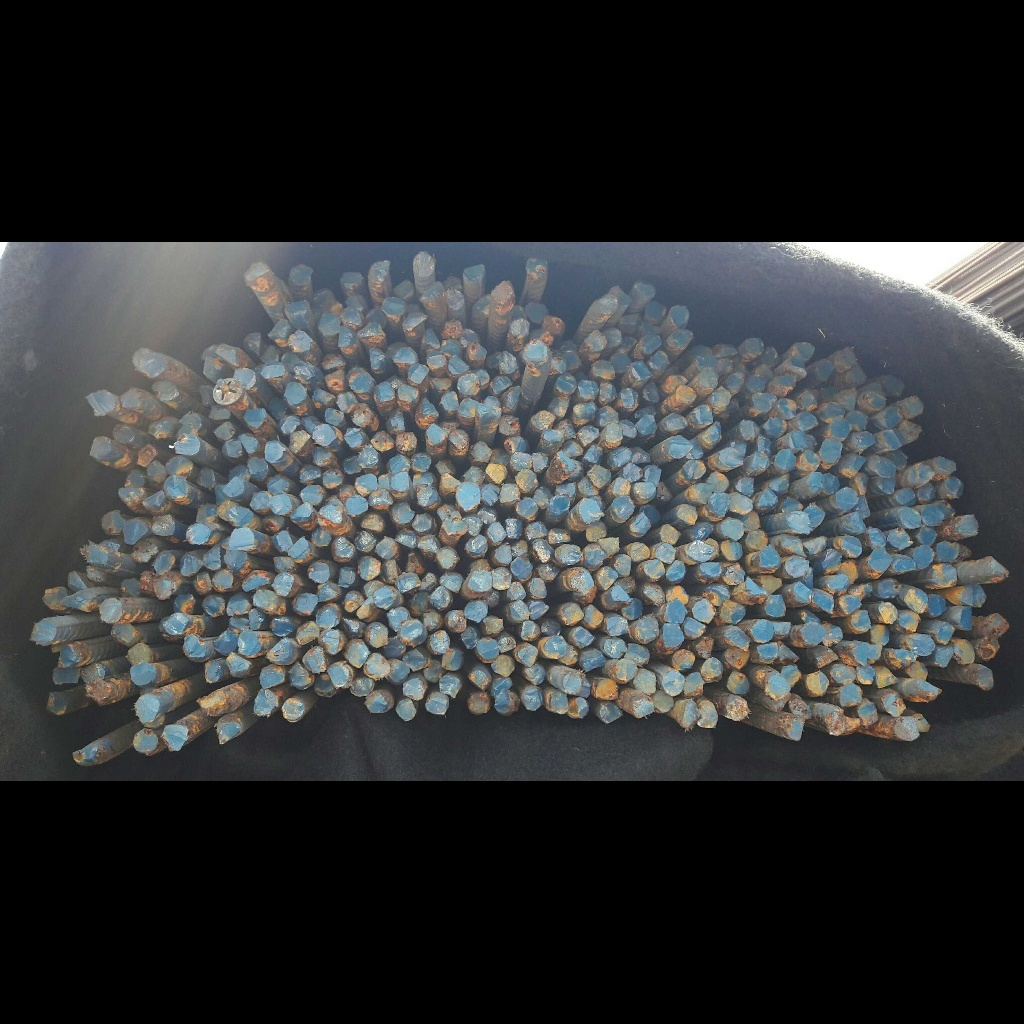dipstick: (132, 348, 166, 377), (86, 390, 116, 417), (244, 262, 274, 289), (213, 378, 244, 404), (980, 556, 1009, 583), (267, 638, 295, 664), (134, 694, 159, 723), (162, 725, 189, 751), (400, 620, 426, 646), (724, 626, 750, 652), (288, 430, 313, 457), (123, 519, 149, 544), (31, 620, 57, 645), (225, 653, 251, 678), (328, 663, 354, 688), (365, 654, 391, 679), (495, 690, 521, 715), (983, 613, 1008, 639), (132, 728, 159, 752), (153, 572, 177, 599), (254, 689, 278, 716), (303, 646, 327, 673), (635, 615, 659, 642), (883, 649, 915, 669), (677, 700, 699, 729), (912, 679, 941, 701), (217, 719, 242, 744), (316, 603, 341, 628), (565, 673, 590, 698), (894, 716, 919, 741), (259, 664, 285, 688), (346, 641, 370, 667), (632, 668, 656, 694), (801, 622, 827, 646), (166, 456, 193, 479), (43, 587, 70, 610), (367, 690, 394, 713), (160, 613, 188, 635), (98, 598, 122, 623), (87, 679, 112, 703), (183, 635, 207, 660), (322, 629, 346, 654), (456, 482, 480, 507), (641, 582, 665, 607), (720, 600, 745, 624), (819, 438, 843, 463), (766, 676, 791, 700), (881, 691, 905, 716), (214, 629, 237, 655), (404, 648, 430, 671), (567, 568, 593, 591), (67, 591, 95, 612), (722, 648, 750, 669), (237, 630, 261, 654), (357, 556, 381, 580), (101, 510, 124, 535), (229, 527, 254, 550), (253, 589, 278, 612), (666, 436, 691, 459), (663, 671, 686, 696), (932, 565, 957, 588), (974, 637, 999, 660), (110, 623, 136, 645), (130, 663, 156, 685), (199, 693, 225, 715), (366, 622, 388, 648), (580, 648, 606, 670), (704, 584, 730, 606), (555, 544, 582, 565), (782, 714, 803, 741), (242, 570, 270, 590), (202, 594, 226, 617), (295, 621, 318, 645), (349, 369, 373, 392), (372, 585, 395, 609), (426, 691, 449, 715), (579, 499, 602, 523), (723, 697, 747, 720), (692, 600, 716, 623), (836, 487, 859, 511), (787, 511, 810, 535), (806, 672, 829, 696), (870, 548, 893, 572), (897, 609, 920, 633), (417, 484, 439, 509), (463, 600, 488, 622), (491, 655, 516, 677), (587, 465, 612, 487), (701, 657, 723, 682), (708, 493, 730, 518), (961, 585, 986, 607), (90, 437, 113, 460), (164, 476, 187, 499), (440, 571, 463, 594), (515, 497, 538, 520), (515, 469, 538, 492), (495, 352, 518, 375), (612, 496, 635, 519), (727, 672, 750, 695), (133, 540, 157, 562), (57, 644, 81, 666), (293, 593, 317, 615), (388, 607, 410, 631), (562, 602, 584, 626), (583, 543, 605, 567), (554, 452, 576, 476), (671, 649, 695, 671), (664, 599, 686, 623), (743, 579, 767, 601), (843, 454, 865, 478), (871, 456, 895, 478), (906, 589, 928, 613), (175, 434, 200, 455), (319, 505, 344, 526), (391, 502, 416, 523), (153, 381, 179, 401), (830, 665, 856, 685), (953, 605, 973, 631), (698, 701, 717, 728), (180, 554, 202, 577), (289, 330, 311, 353), (214, 343, 236, 366), (233, 367, 256, 389), (247, 457, 269, 480), (282, 699, 305, 721), (284, 382, 307, 404), (343, 590, 365, 613), (402, 677, 424, 700), (437, 546, 459, 569), (835, 348, 857, 371), (751, 620, 774, 642), (909, 462, 932, 484), (127, 643, 151, 664), (227, 594, 251, 615), (272, 573, 293, 597), (313, 425, 337, 446), (414, 251, 435, 275), (413, 513, 437, 534), (468, 571, 492, 592), (547, 690, 568, 714), (595, 679, 619, 700), (763, 417, 787, 438), (785, 556, 809, 577), (821, 549, 842, 573), (874, 603, 898, 624), (888, 528, 912, 549), (935, 541, 959, 562), (910, 634, 934, 655), (186, 524, 211, 544), (523, 686, 543, 711), (683, 672, 703, 697), (687, 541, 712, 561), (812, 648, 837, 668), (955, 639, 975, 664), (359, 323, 385, 342), (86, 544, 108, 566), (289, 537, 311, 559), (333, 537, 355, 559), (354, 530, 376, 552), (429, 587, 451, 609), (524, 663, 546, 685), (544, 636, 566, 658), (492, 281, 514, 303), (526, 302, 548, 324), (573, 403, 595, 425), (615, 659, 637, 681), (722, 518, 744, 540), (840, 684, 862, 706), (901, 396, 923, 418), (941, 477, 963, 499), (270, 615, 293, 636), (324, 371, 347, 392), (370, 261, 391, 284), (457, 374, 480, 395), (352, 403, 373, 426), (371, 430, 394, 451), (439, 675, 462, 696), (476, 638, 499, 659), (511, 557, 532, 580), (604, 637, 627, 658), (524, 340, 547, 361), (596, 405, 619, 426), (629, 512, 650, 535), (622, 597, 643, 620), (626, 644, 649, 665), (707, 470, 728, 493), (780, 535, 803, 556), (827, 574, 850, 595), (804, 505, 825, 528), (866, 526, 887, 549), (922, 505, 945, 526), (300, 485, 324, 505), (719, 447, 743, 467), (752, 392, 776, 412), (876, 579, 900, 599), (461, 625, 480, 650), (532, 539, 551, 564), (530, 410, 555, 429), (476, 403, 502, 421), (47, 693, 68, 715), (174, 593, 195, 615), (308, 562, 330, 583), (355, 474, 377, 495), (376, 536, 397, 558), (441, 649, 463, 670), (567, 697, 588, 719), (644, 559, 666, 580), (633, 695, 654, 717), (722, 563, 744, 584), (711, 387, 732, 409), (765, 595, 786, 617), (840, 535, 862, 556), (839, 594, 861, 615), (779, 643, 800, 665), (899, 507, 921, 528), (854, 431, 876, 452), (913, 546, 934, 568), (926, 595, 947, 617), (933, 622, 954, 644), (152, 515, 175, 535), (153, 553, 176, 573), (81, 664, 104, 684), (212, 569, 232, 592), (224, 550, 247, 570), (359, 445, 379, 468), (418, 399, 438, 422), (369, 489, 392, 509), (398, 572, 421, 592), (396, 698, 416, 721), (492, 567, 512, 590), (599, 703, 622, 723), (542, 315, 565, 335), (633, 481, 656, 501), (663, 623, 683, 646), (690, 483, 713, 503), (933, 456, 956, 476), (142, 490, 166, 509), (431, 630, 450, 654), (591, 361, 615, 380), (826, 712, 845, 736), (975, 667, 994, 691), (361, 514, 386, 532), (319, 314, 340, 335), (337, 392, 358, 413), (468, 693, 489, 714), (499, 415, 520, 436), (458, 397, 479, 418), (585, 330, 606, 351), (602, 425, 623, 446), (677, 504, 698, 525), (775, 449, 796, 470), (757, 490, 778, 511), (907, 660, 928, 681), (204, 661, 224, 683), (244, 408, 266, 428), (218, 500, 238, 522), (270, 494, 292, 514), (373, 382, 395, 402), (468, 670, 490, 690), (418, 535, 440, 555), (469, 442, 491, 462), (721, 540, 743, 560), (792, 583, 814, 603), (814, 593, 834, 615), (845, 411, 867, 431), (957, 515, 979, 535), (290, 264, 313, 283), (230, 507, 253, 526), (274, 531, 293, 554), (312, 388, 335, 407), (382, 297, 405, 316), (345, 496, 368, 515), (447, 609, 466, 632), (598, 566, 617, 589), (503, 436, 526, 455), (594, 294, 617, 313), (576, 381, 599, 400), (670, 305, 689, 328), (682, 617, 705, 636), (822, 402, 845, 421), (849, 643, 868, 666), (285, 300, 309, 318), (316, 582, 340, 600), (261, 361, 285, 379), (340, 272, 364, 290), (443, 518, 467, 536), (73, 748, 98, 765), (121, 388, 142, 408), (244, 333, 264, 354), (291, 501, 312, 521), (351, 676, 372, 696), (509, 601, 530, 621), (504, 519, 524, 540), (528, 600, 549, 620), (572, 627, 593, 647), (486, 463, 507, 483), (511, 451, 532, 471), (556, 373, 577, 393), (611, 447, 632, 467), (635, 414, 655, 435), (623, 462, 644, 482), (666, 561, 686, 582), (794, 341, 815, 361), (798, 391, 819, 411), (858, 703, 878, 724), (883, 376, 904, 396), (147, 460, 166, 482), (203, 358, 225, 377), (265, 441, 284, 463), (222, 477, 244, 496), (407, 364, 429, 383), (448, 355, 470, 374), (396, 529, 418, 548), (609, 353, 631, 372), (746, 531, 768, 550), (781, 665, 800, 687), (871, 624, 890, 646), (844, 513, 866, 532), (119, 486, 145, 502), (300, 465, 323, 483), (404, 313, 427, 331), (482, 484, 500, 507), (605, 616, 628, 634), (525, 257, 548, 275), (629, 361, 652, 379), (620, 388, 638, 411), (613, 553, 631, 576), (321, 352, 345, 369), (369, 348, 386, 372), (394, 279, 414, 299), (518, 646, 538, 666), (462, 516, 482, 536), (881, 429, 901, 449), (900, 420, 920, 440), (933, 647, 953, 667), (113, 424, 134, 443), (149, 419, 170, 438), (66, 571, 85, 592), (269, 320, 290, 339), (268, 476, 289, 495), (337, 567, 356, 588), (341, 307, 362, 326), (338, 327, 357, 348), (426, 352, 447, 371), (441, 319, 462, 338), (421, 611, 442, 630), (494, 543, 513, 564), (487, 522, 506, 543), (584, 605, 603, 626), (549, 495, 570, 514), (583, 444, 604, 463), (665, 413, 686, 432), (684, 460, 705, 479), (777, 399, 798, 418), (748, 451, 769, 470), (916, 526, 937, 545), (490, 376, 512, 394), (609, 286, 631, 304), (795, 412, 817, 430), (852, 610, 870, 632), (394, 347, 417, 364), (633, 283, 656, 300), (239, 433, 258, 453), (251, 491, 271, 510), (324, 469, 344, 488), (342, 455, 362, 474), (412, 452, 431, 472), (427, 424, 446, 444), (391, 471, 410, 491), (467, 535, 487, 554), (448, 430, 468, 449), (612, 477, 631, 497), (656, 543, 675, 563), (698, 368, 718, 387), (740, 420, 759, 440), (830, 420, 850, 439), (770, 476, 789, 496), (180, 413, 201, 431), (214, 421, 235, 439), (279, 415, 300, 433), (398, 383, 419, 401), (441, 391, 459, 412), (389, 455, 410, 473), (529, 578, 547, 599), (629, 542, 650, 560), (397, 432, 416, 451), (499, 483, 518, 502), (693, 406, 712, 425), (758, 642, 777, 661), (856, 665, 875, 684), (311, 527, 331, 545), (312, 448, 332, 466), (446, 290, 464, 310), (345, 428, 363, 448), (521, 621, 539, 641), (672, 329, 692, 347), (661, 524, 679, 544), (847, 365, 867, 383), (895, 488, 915, 506), (125, 470, 146, 487), (222, 440, 243, 457), (577, 426, 598, 443), (700, 563, 721, 580), (774, 375, 795, 392), (463, 265, 485, 281), (424, 329, 440, 351), (640, 335, 662, 351), (650, 350, 668, 369), (599, 382, 617, 401), (600, 537, 619, 555), (725, 373, 744, 391), (807, 473, 826, 491), (866, 392, 885, 410), (325, 407, 345, 424), (464, 466, 484, 483), (643, 382, 660, 402), (676, 386, 696, 403), (744, 338, 764, 355), (817, 359, 834, 379), (788, 429, 805, 449), (548, 528, 570, 543), (507, 582, 525, 600), (736, 478, 754, 496), (468, 342, 487, 359), (527, 521, 546, 538), (611, 585, 630, 602), (645, 303, 665, 319), (441, 473, 459, 489), (824, 474, 838, 494), (542, 431, 563, 444), (716, 345, 737, 357)
